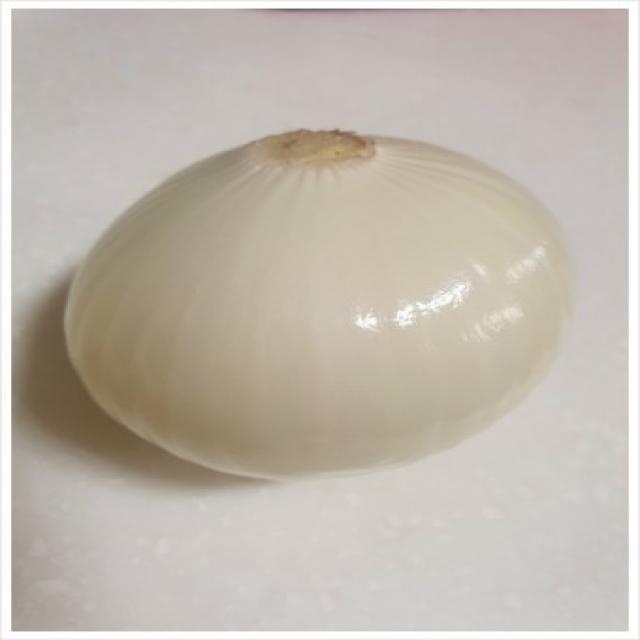Onion: (62, 128, 574, 477)
